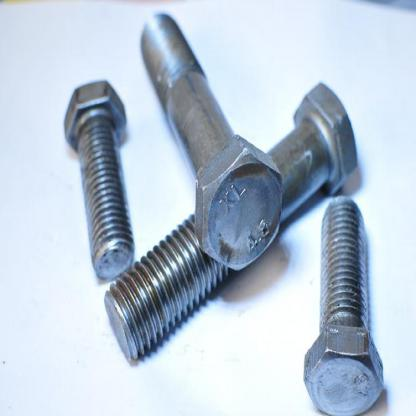FOD: (102, 81, 362, 366), (139, 8, 284, 273), (301, 193, 386, 415), (63, 78, 137, 282)
